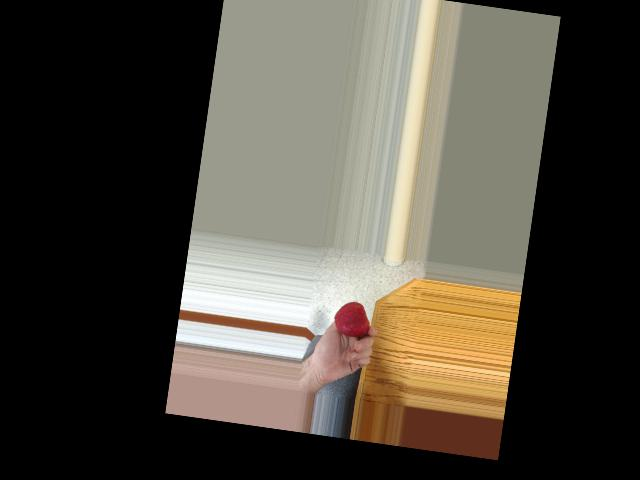apple: (331, 297, 373, 339)
